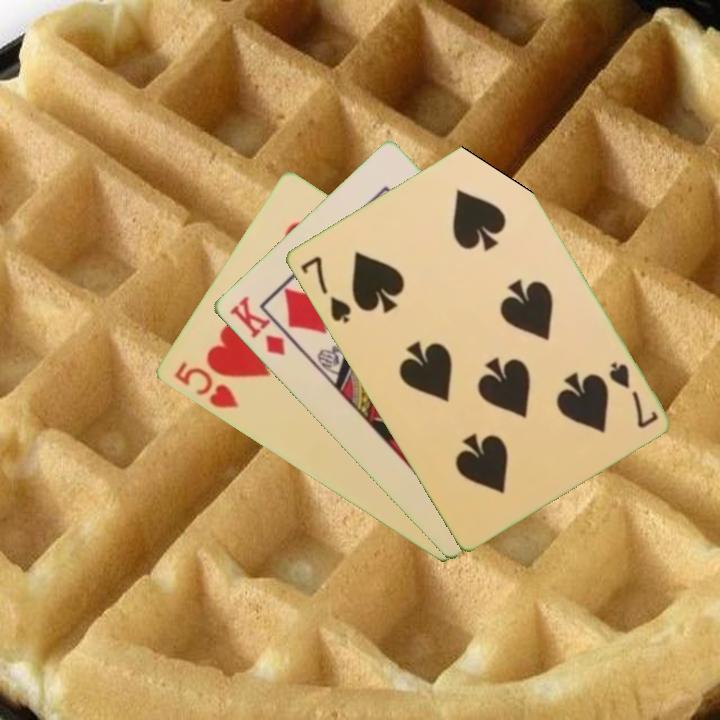5h: (169, 358, 241, 412)
7s: (296, 252, 354, 326), (605, 358, 661, 432)
Kd: (225, 292, 288, 359)
